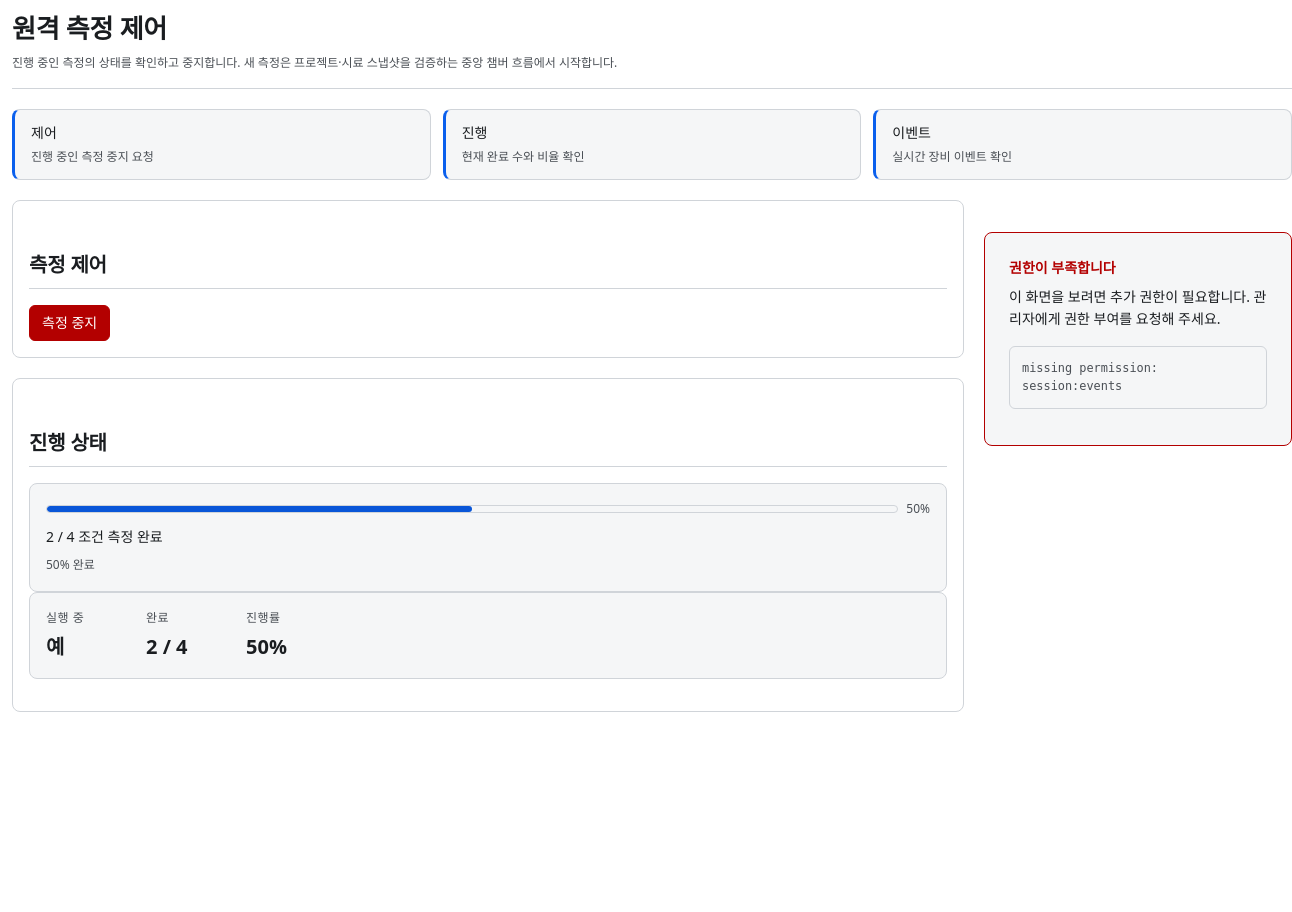
ControlRoute stop dispatch + outcomes › surfaces forbidden outcome on a 403 stop
The width and height of the screenshot is (1292, 912).
Click the button with test id "control-stop": (70, 323) [29,305,110,341]
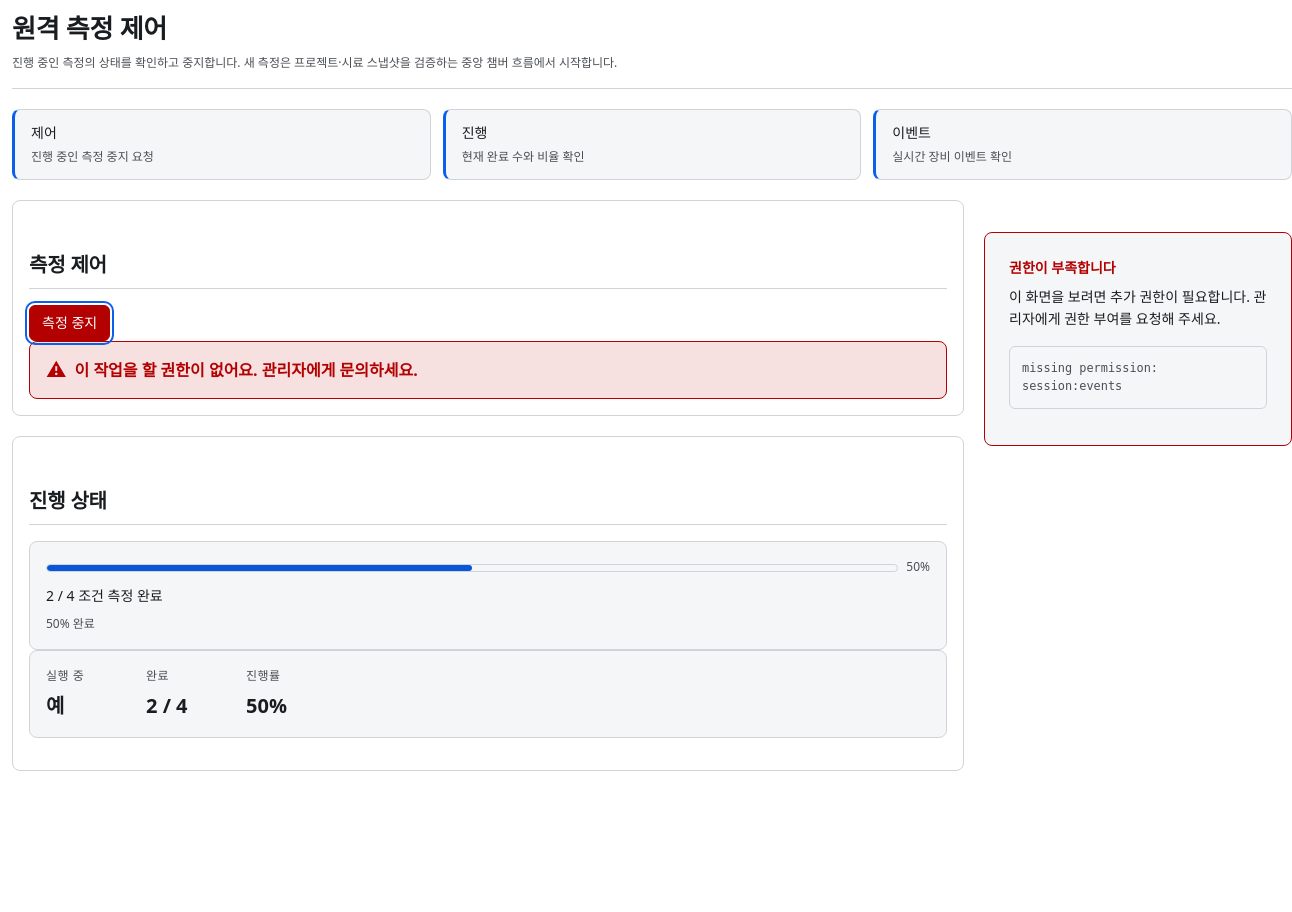
Check: the message "이 작업을 할 권한이 없어요. 관리자에게 문의하세요." is shown, box [29,341,947,400]
